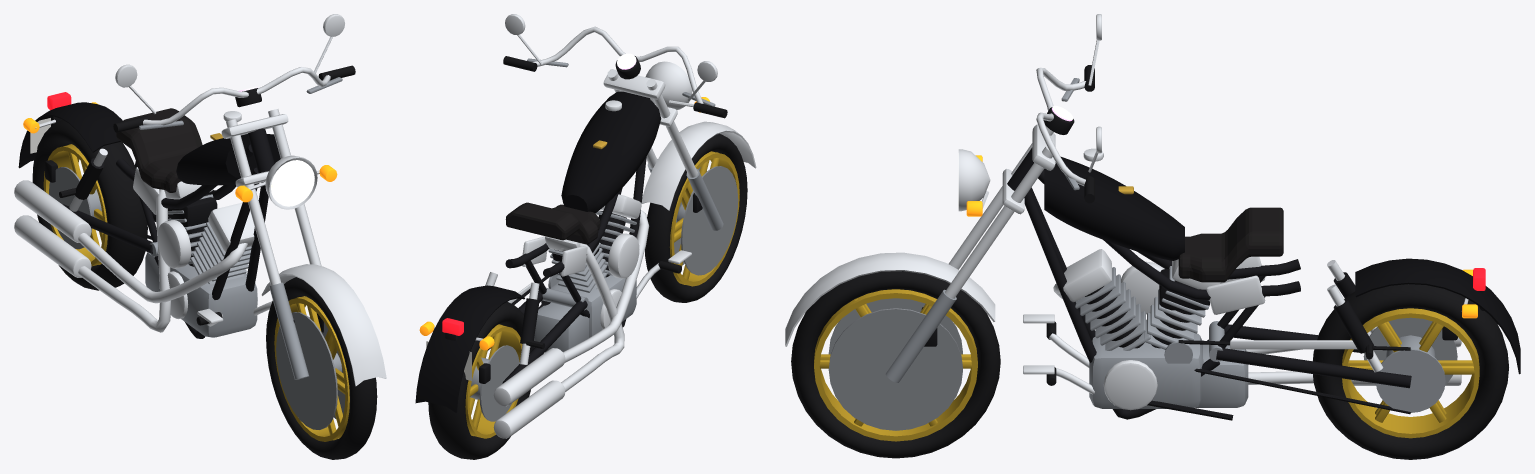
The model's file is midnight-rebel-750.glb.
3 views of the same model, side by side, from view 1: azimuth 30°, elevation 25°; view 2: azimuth 150°, elevation 25°; view 3: azimuth 270°, elevation 25° (orthographic). The views are drawn at different scales.
Visible parts, largest first — view 1: FrontForkMesh, Engine, Exhaust, Rim_F, Tire_R, Frame, Tire_F, Seat, Bodywork, FuelTank, Rim_R, SwingarmMesh (+1 smaller); view 2: FrontForkMesh, FuelTank, Exhaust, Engine, Bodywork, Rim_F, Tire_F, Frame, Tire_R, Rim_R, Seat, SwingarmMesh (+1 smaller); view 3: Rim_F, Engine, FrontForkMesh, Tire_R, Tire_F, Frame, SwingarmMesh, Rim_R, FuelTank, Bodywork, Seat, Exhaust.
Part boxes in pixels (x1,y1,x2,y2): FrontForkMesh: (113,14,386,386); Engine: (145,181,257,337); Exhaust: (14,180,247,332); Rim_F: (274,296,349,441); Tire_R: (32,119,147,290); Frame: (59,128,274,338); Tire_F: (266,277,377,459); Seat: (116,108,202,192); Bodywork: (18,102,159,214); FuelTank: (176,111,280,185); Rim_R: (43,144,107,266); SwingarmMesh: (45,160,170,256); FrontForkMesh: (503,14,756,230); FuelTank: (561,91,661,213); Exhaust: (493,210,649,438); Engine: (534,194,641,352); Bodywork: (415,236,587,412); Rim_F: (669,151,739,286); Tire_F: (645,133,747,302); Frame: (485,93,691,364); Tire_R: (428,302,534,459); Rim_R: (465,324,522,438); Seat: (505,202,600,244); SwingarmMesh: (479,274,588,383); Rim_F: (814,289,977,441); Engine: (1063,249,1248,410); FrontForkMesh: (785,14,1101,382); Tire_R: (1313,284,1508,459); Tire_F: (791,271,1000,458); Frame: (1007,147,1383,420); SwingarmMesh: (1164,321,1457,414); Rim_R: (1342,308,1479,438); FuelTank: (1044,148,1184,260); Bodywork: (1206,256,1520,374); Seat: (1178,207,1283,282); Exhaust: (1053,283,1461,385).
Size of the model in its own units: 0.96 by 1.34 by 2.32.
